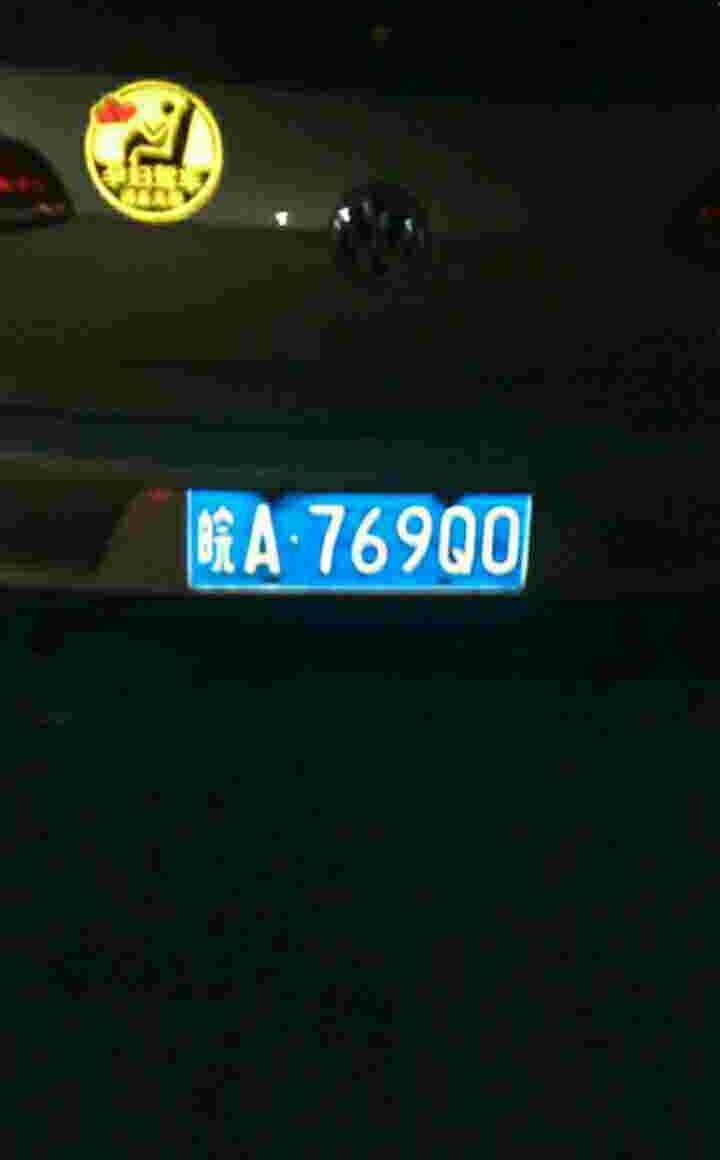car: (174, 464, 540, 594)
